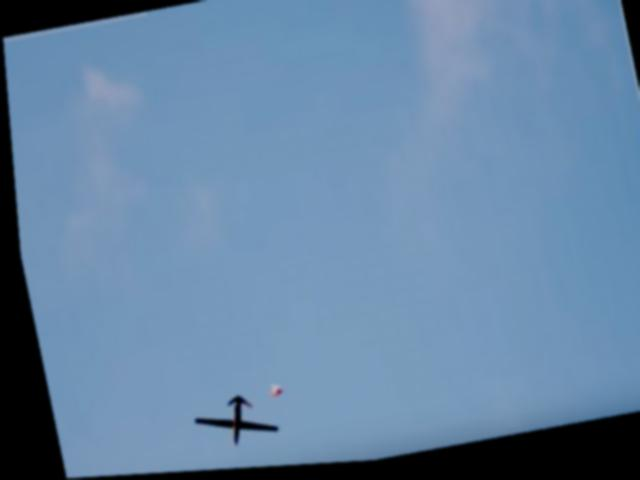uav: (182, 392, 273, 459)
